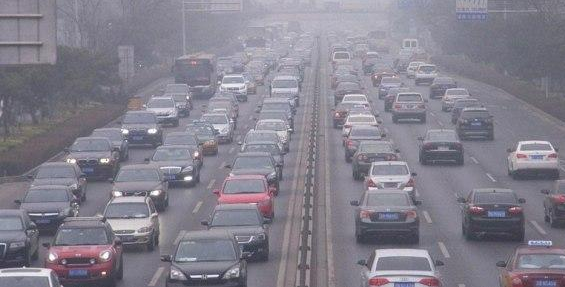bus: (169, 53, 217, 99)
car: (45, 215, 125, 287), (158, 228, 250, 286), (348, 188, 423, 245), (200, 204, 272, 263), (456, 187, 527, 240), (96, 196, 160, 254), (356, 248, 444, 287), (13, 185, 81, 234), (108, 163, 169, 214), (213, 174, 277, 219), (26, 161, 88, 203), (63, 136, 122, 180), (143, 144, 201, 188), (360, 160, 416, 202), (223, 152, 279, 193), (347, 139, 401, 181), (1, 209, 39, 268), (506, 138, 561, 178), (494, 238, 537, 287), (238, 141, 288, 182), (417, 127, 464, 165), (238, 129, 285, 164), (162, 132, 204, 170), (117, 111, 163, 145), (344, 124, 386, 160), (453, 105, 495, 140), (89, 127, 130, 162), (141, 94, 181, 129), (254, 119, 293, 154), (182, 119, 221, 154), (257, 96, 298, 128), (390, 91, 428, 124), (539, 179, 565, 227), (256, 109, 292, 143), (199, 112, 234, 145), (342, 112, 383, 140), (158, 83, 197, 111), (268, 75, 301, 108), (216, 75, 249, 103), (332, 100, 364, 128), (451, 98, 485, 124), (161, 90, 191, 117), (441, 87, 473, 112), (200, 100, 237, 121), (383, 86, 414, 111), (330, 66, 359, 90), (333, 82, 366, 103), (339, 94, 373, 114), (378, 75, 406, 99), (429, 76, 459, 98), (369, 65, 397, 88), (209, 92, 239, 113), (414, 62, 440, 85), (275, 67, 303, 88), (331, 51, 354, 71), (406, 60, 426, 79), (240, 66, 262, 83)
